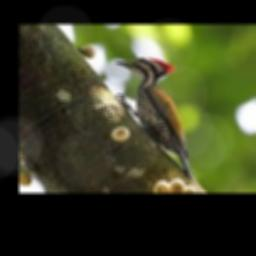Woodpecker: (115, 58, 197, 181)
